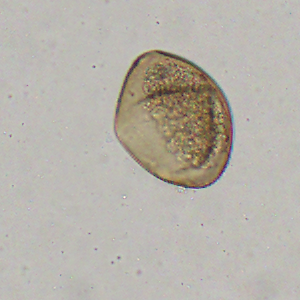Fasciola_hepatica_egg: (112, 48, 235, 190)
